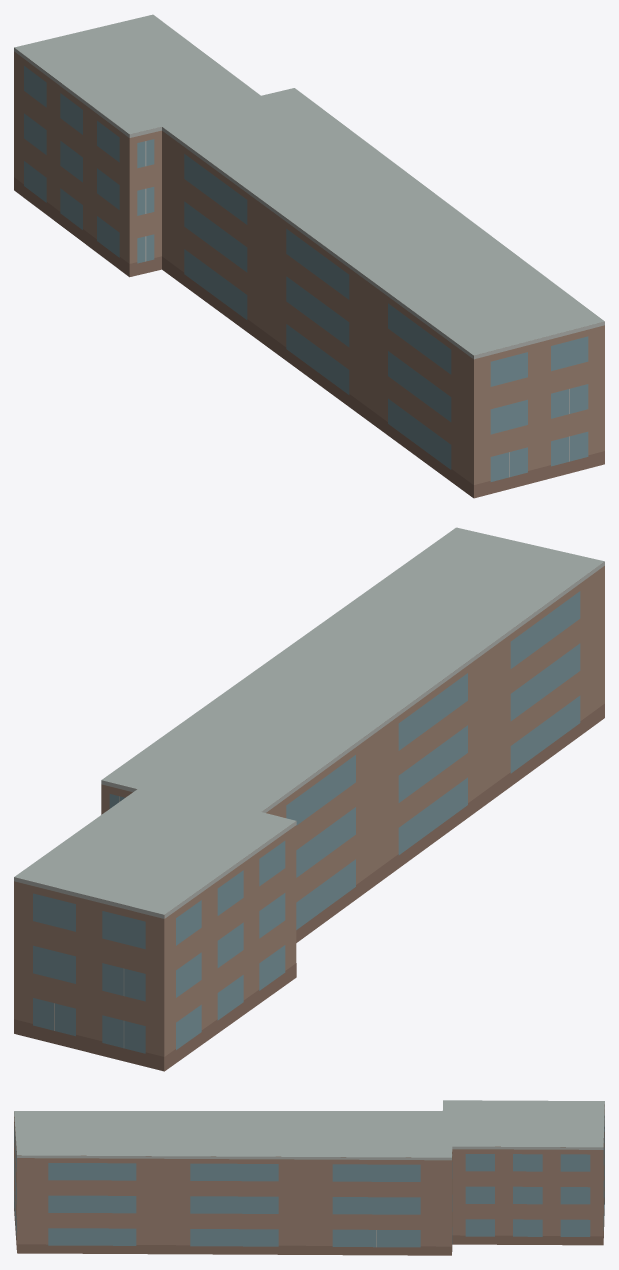
Rendered from survey-upis-32999541.glb.
3 renders of one model, top to bottom at view 1: azimuth 30°, elevation 25°; view 2: azimuth 150°, elevation 25°; view 3: azimuth 270°, elevation 25°, orthographic. The views are drawn at different scales.
Visible parts, largest first — view 1: survey-upis-32999541.tmp; view 2: survey-upis-32999541.tmp; view 3: survey-upis-32999541.tmp.
Boxes of the visible parts, x1,y1,x2,y2 form: survey-upis-32999541.tmp: (14,14,604,498); survey-upis-32999541.tmp: (14,527,604,1071); survey-upis-32999541.tmp: (14,1100,604,1255).
Bounding box in the file's own units: 11.51 × 9.15 × 50.02.
